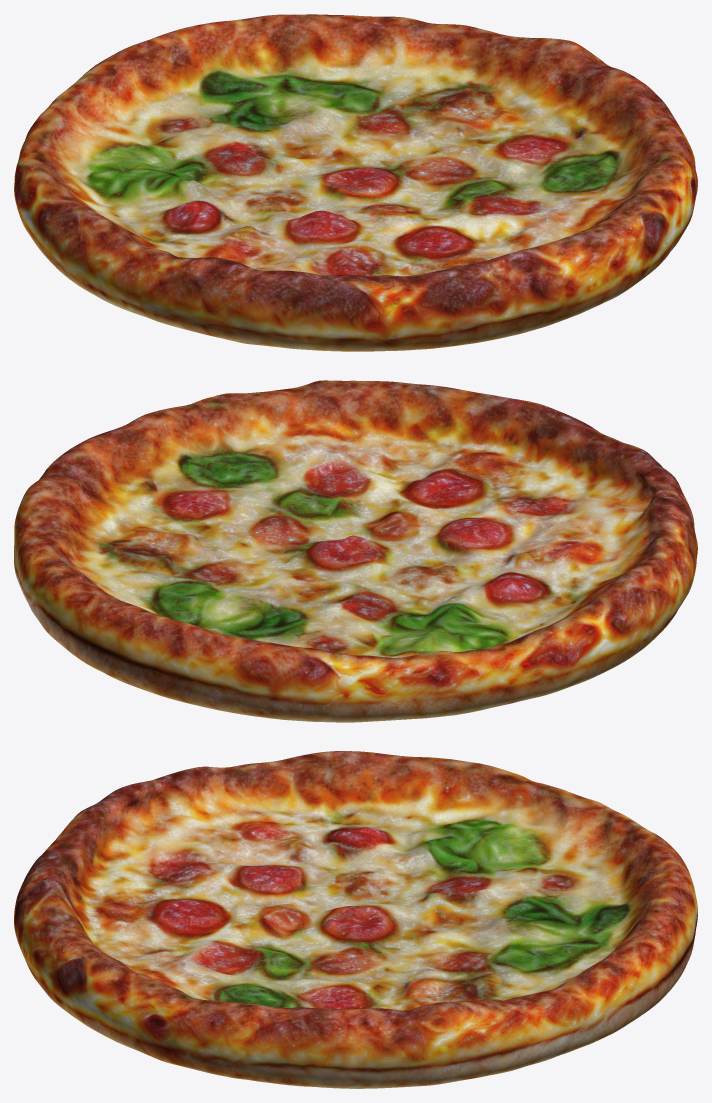
Rendered from pizza2.glb.
3 renders of one model, top to bottom at view 1: azimuth 30°, elevation 25°; view 2: azimuth 150°, elevation 25°; view 3: azimuth 270°, elevation 25°, orthographic.
Parts seen in each view (by area): view 1: model_0; view 2: model_0; view 3: model_0.
Boxes of the visible parts, x1=… form: model_0: x1=14, y1=14, x2=697, y2=351; model_0: x1=14, y1=380, x2=697, y2=722; model_0: x1=14, y1=751, x2=697, y2=1088.
Bounding box in the file's own units: 0.5369 × 0.087 × 0.5408.
Materials: 1 (1 with a texture image).
